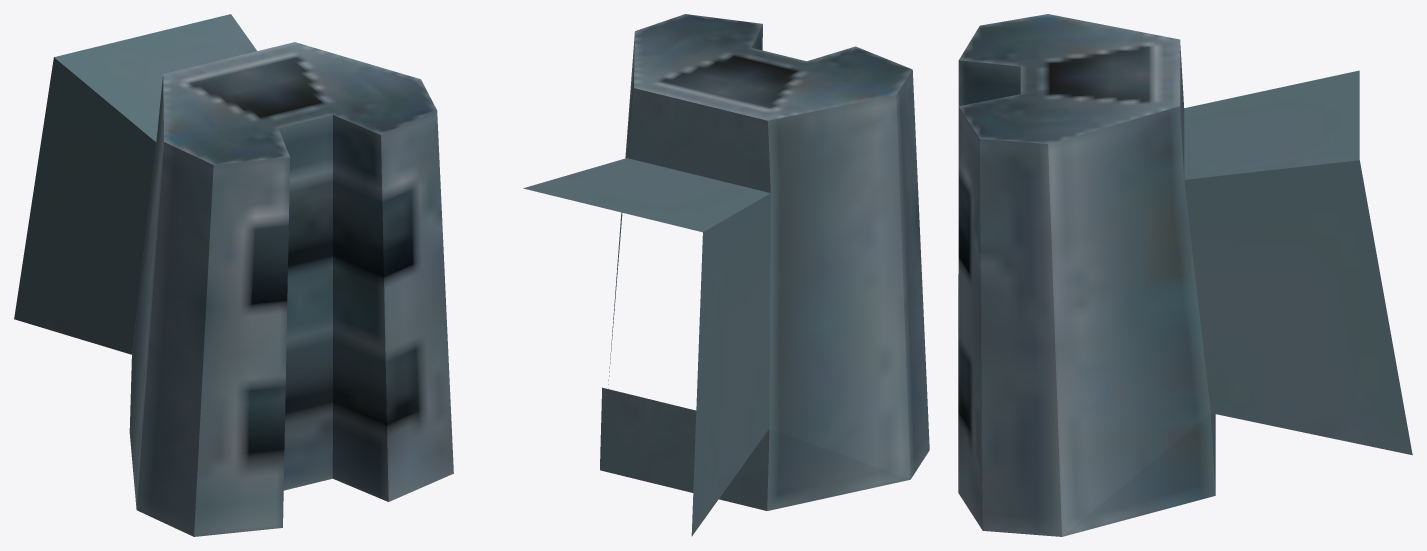
File: Kart 4 Scoop.glb
The picture shows the model from 3 angles, left to right: view 1: azimuth 30°, elevation 25°; view 2: azimuth 150°, elevation 25°; view 3: azimuth 270°, elevation 25°; orthographic projection. The views are drawn at different scales.
Parts seen in each view (by area): view 1: scoop; view 2: scoop; view 3: scoop.
Part boxes in pixels (x1,y1,x2,y2): scoop: (14,14,453,536); scoop: (523,14,929,536); scoop: (958,14,1412,536).
Size of the model in its own units: 0.4934 by 0.5981 by 0.6264.
1 material, 1 textured.
